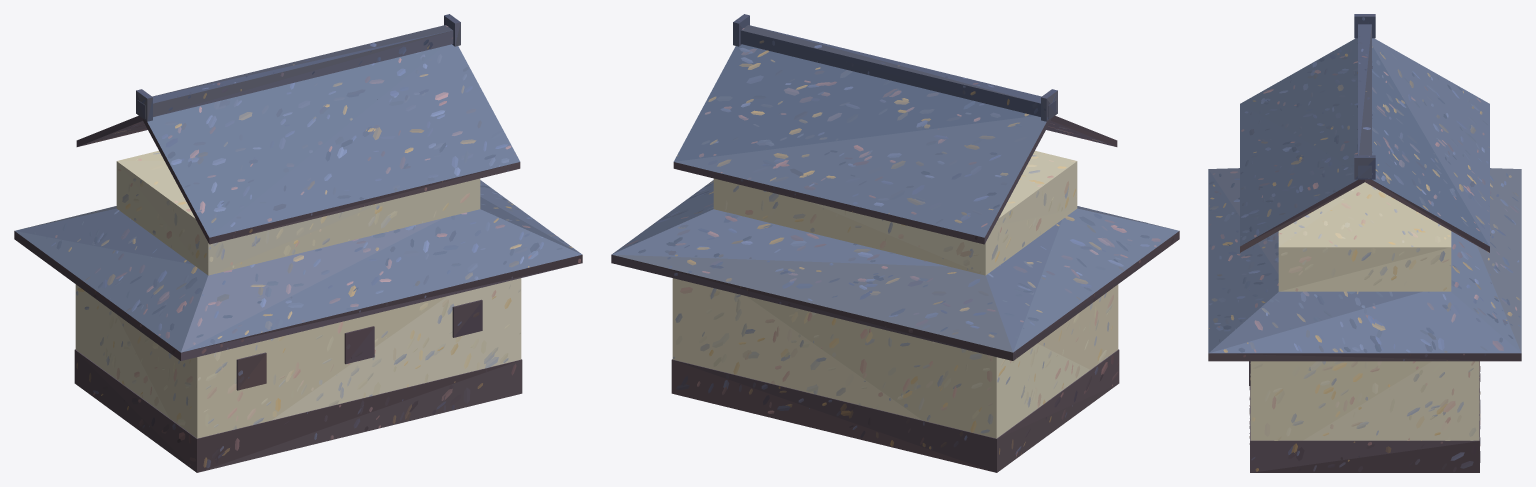
The model's file is HK_Yagura.glb.
3 renders of one model, left to right at view 1: azimuth 30°, elevation 25°; view 2: azimuth 150°, elevation 25°; view 3: azimuth 270°, elevation 25°, orthographic. The views are drawn at different scales.
Parts seen in each view (by area): view 1: HK_Yagura; view 2: HK_Yagura; view 3: HK_Yagura.
Part boxes in pixels (box(x1,y1,x2,y2)): HK_Yagura: box(14, 14, 582, 472); HK_Yagura: box(611, 14, 1179, 472); HK_Yagura: box(1208, 14, 1521, 472).
Size of the model in its own units: 12.41 by 9.8 by 8.91.
